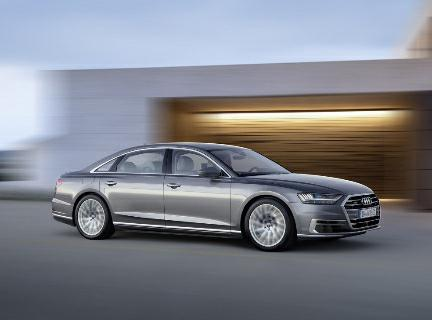奥迪-SQ5: (43, 137, 391, 258)
